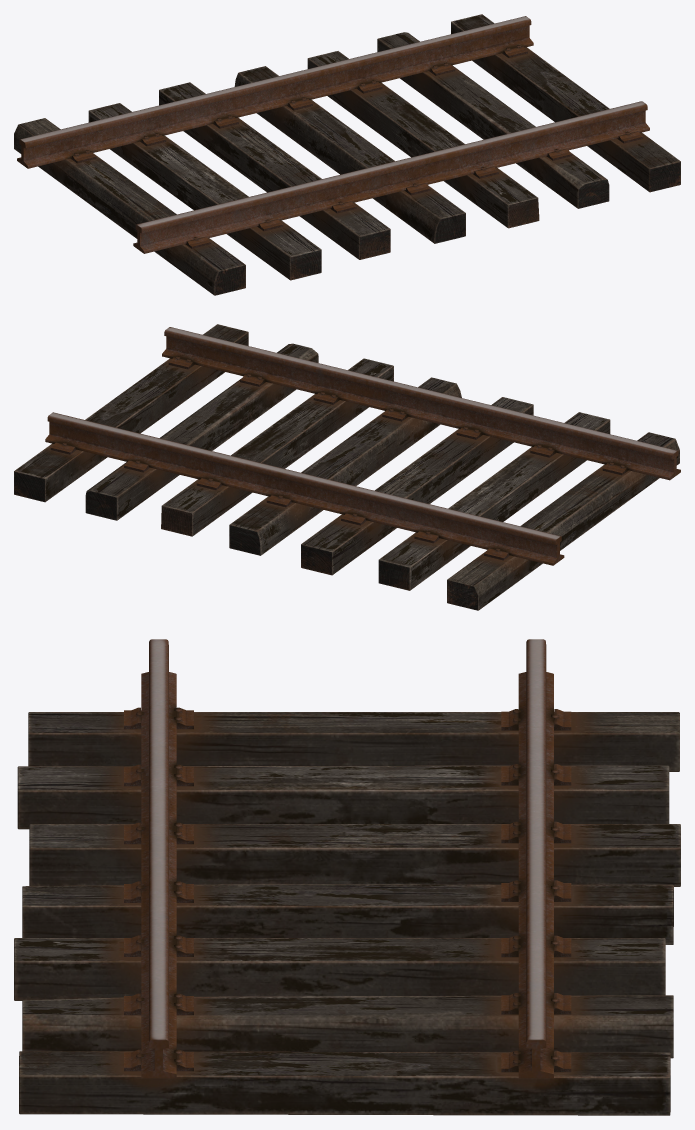
File: railway.glb
The picture shows the model from 3 angles, top to bottom: view 1: azimuth 30°, elevation 25°; view 2: azimuth 150°, elevation 25°; view 3: azimuth 270°, elevation 25°; orthographic projection. The views are drawn at different scales.
Parts seen in each view (by area): view 1: railroad_gav_railroad_gav_0; view 2: railroad_gav_railroad_gav_0; view 3: railroad_gav_railroad_gav_0.
Boxes of the visible parts, x1,y1,x2,y2 form: railroad_gav_railroad_gav_0: (14, 14, 680, 295); railroad_gav_railroad_gav_0: (14, 324, 680, 610); railroad_gav_railroad_gav_0: (14, 639, 680, 1115).
Bounding box in the file's own units: 4 × 0.3716 × 2.82.
1 material, 1 textured.
